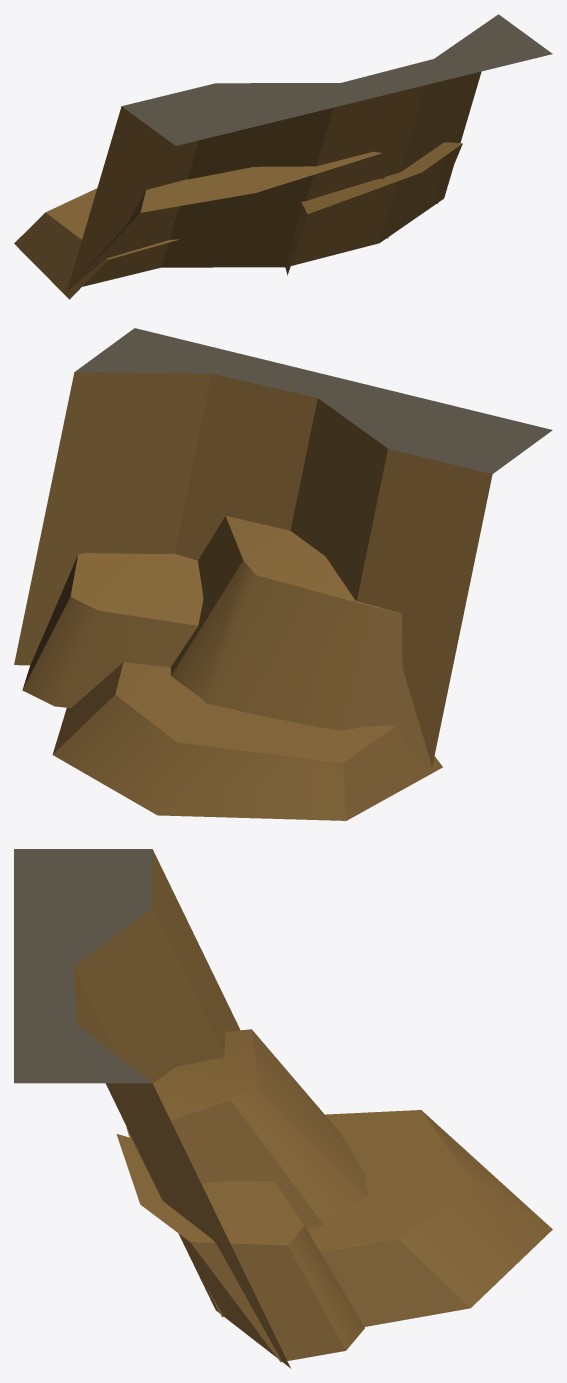
Rendered from SF_Env_MudEdge_Straight_04.fbx.
3 views of the same model, one above another, from view 1: azimuth 30°, elevation 25°; view 2: azimuth 150°, elevation 25°; view 3: azimuth 270°, elevation 25° (orthographic). The views are drawn at different scales.
Parts seen in each view (by area): view 1: SF_Env_MudEdge_Straight_04; view 2: SF_Env_MudEdge_Straight_04; view 3: SF_Env_MudEdge_Straight_04.
Boxes of the visible parts, x1,y1,x2,y2 form: SF_Env_MudEdge_Straight_04: (14,14,552,299); SF_Env_MudEdge_Straight_04: (14,328,552,820); SF_Env_MudEdge_Straight_04: (14,849,552,1368).
Size of the model in its own units: 10.1 by 5.78 by 9.72.
